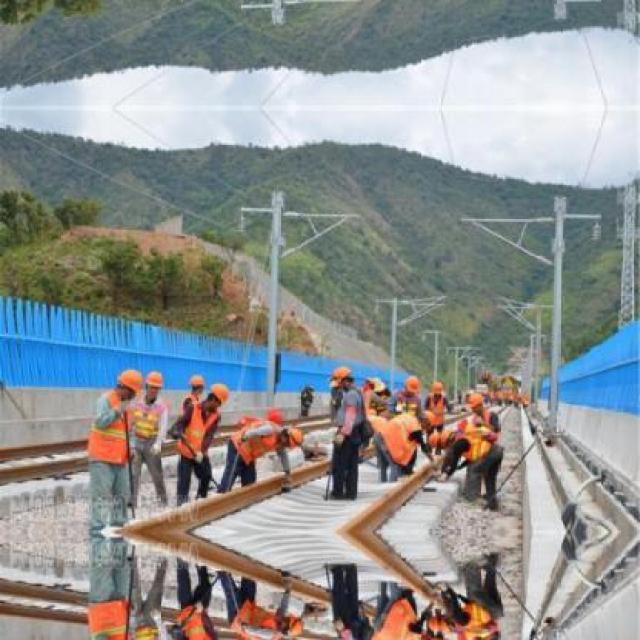Reflective-Jacket: (85, 390, 132, 467), (368, 412, 423, 472), (176, 393, 222, 463), (228, 418, 278, 467), (331, 388, 369, 446), (466, 408, 503, 456), (132, 400, 166, 442), (426, 393, 448, 429)
Safety-Helmet: (114, 366, 144, 396), (328, 362, 357, 390), (210, 380, 236, 408), (144, 368, 168, 392), (283, 424, 306, 447), (464, 392, 488, 412), (266, 407, 286, 427), (188, 372, 208, 392), (403, 375, 422, 396), (429, 379, 446, 395)
